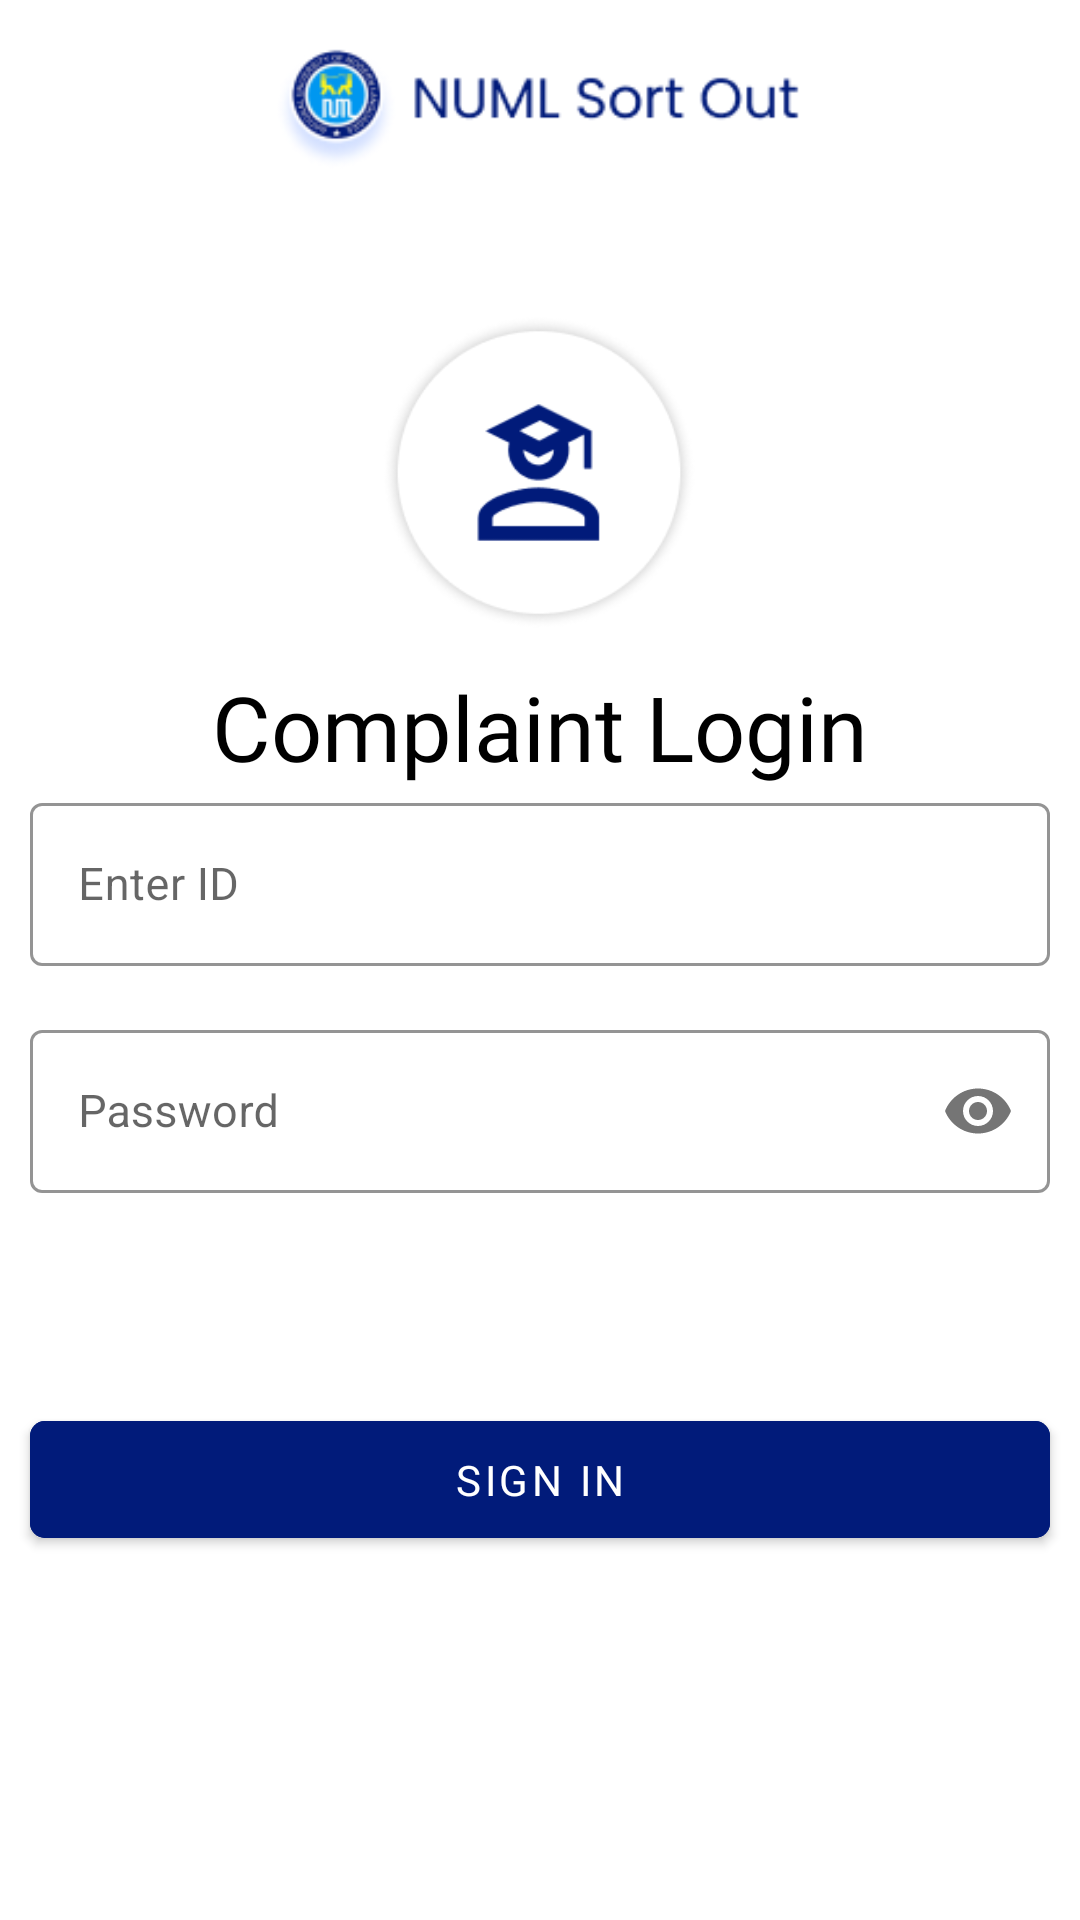

Where to tap for icons on this 1080w x 1920h app screen, as (x,y):
student: (539,472)
